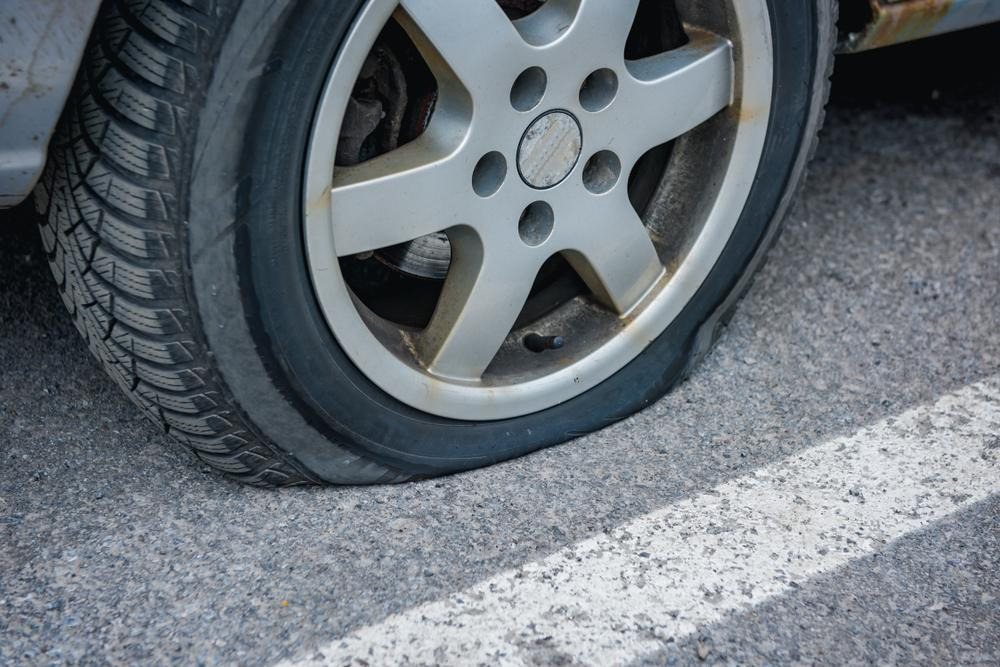tire flat: (32, 0, 836, 491)
